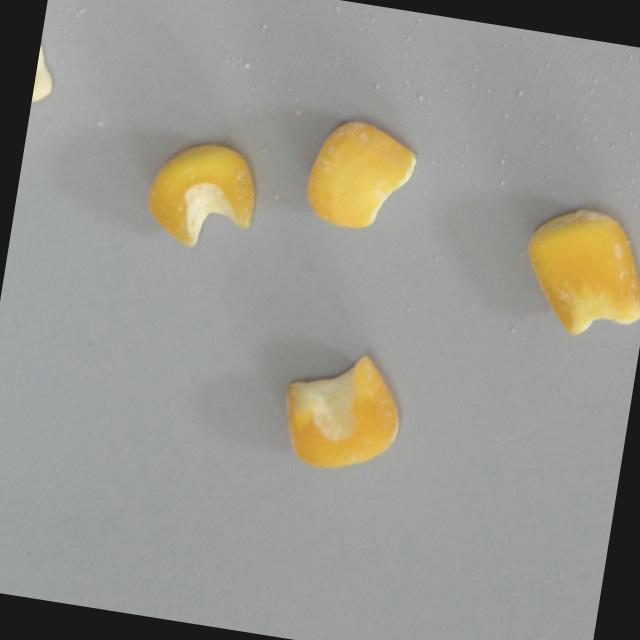no_canjicado: (273, 341, 407, 479), (138, 133, 261, 257)
pelicula: (523, 202, 640, 341), (300, 116, 409, 238), (28, 25, 60, 120)
